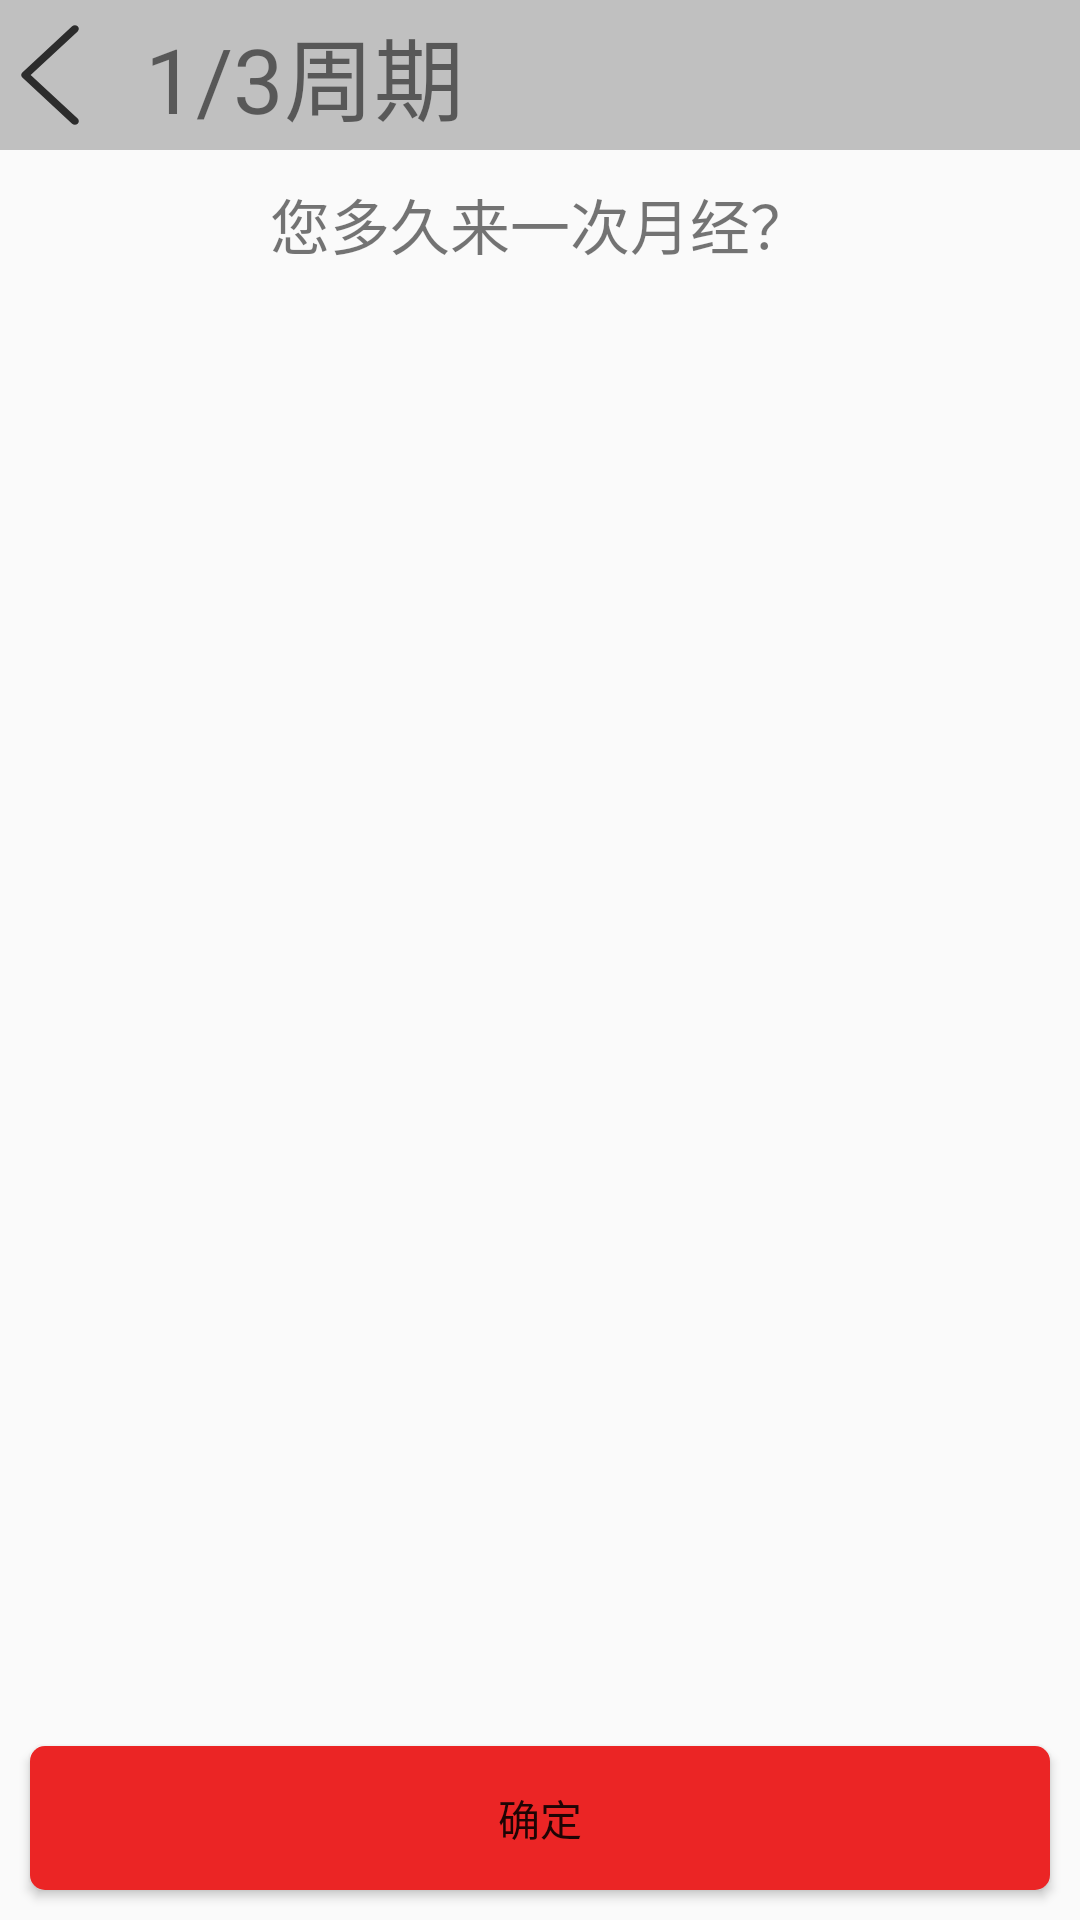

Named icons in this screenshot (1080x1920) and their centers, [x,y]:
back: [50,75]
